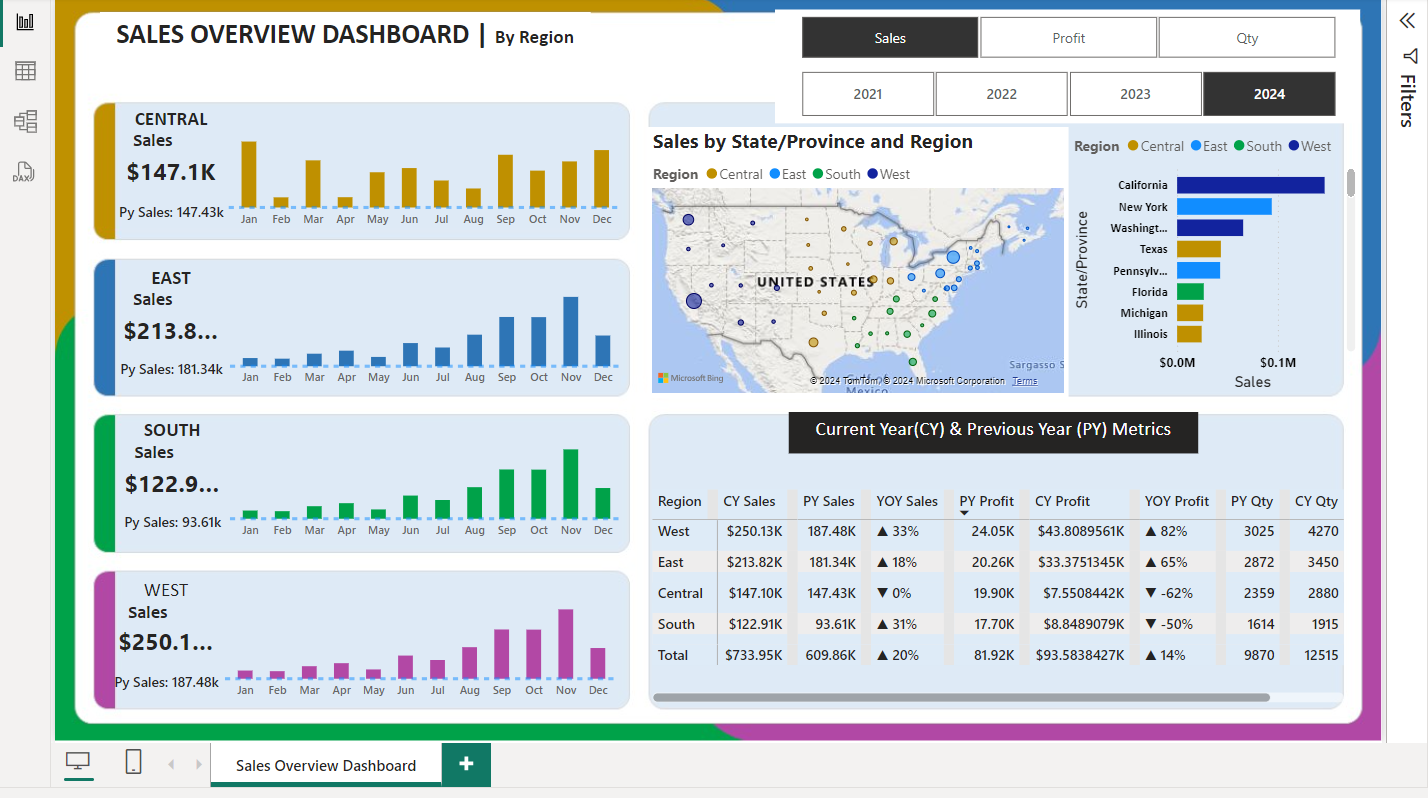

The page's visual inventory and layout, read from the dashboard file:
{"tool":"powerbi","page":{"name":"Sales Overview Dashboard","canvas":[1280,720],"ordinal":0},"visuals":[{"type":"slicer","fields":{"Values":["Select Metric.Select Metric"]},"box":[695,11.7,565,53.3],"z":0},{"type":"card","fields":{"Values":["Sales Data.Total Sales"]},"box":[60,140,103.3,60],"z":1000},{"type":"textbox","box":[60,101.7,103.3,38.3],"z":2000},{"type":"slicer","fields":{"Values":["Calender Table.Year"]},"box":[695,65,565,56.7],"z":3000},{"type":"card","fields":{"Values":["Sales Data.Dynamic Title"]},"box":[60,123.3,68.3,33.3],"z":4000},{"type":"card","fields":{"Values":["Sales Data.PY KPI Sales"]},"box":[43.3,186.7,138.3,45],"z":5000},{"type":"clusteredColumnChart","fields":{"Y":["Sales Data.Total Sales"],"Category":["Calender Table.Month"]},"box":[163.3,101.7,390,130],"z":6000},{"type":"textbox","box":[43.3,15,473.3,50],"z":7000},{"type":"card","fields":{"Values":["Sales Data.Total Sales"]},"box":[60.7,292.7,103.3,60],"z":8000},{"type":"textbox","box":[60.7,254.3,103.3,38.3],"z":9000},{"type":"card","fields":{"Values":["Sales Data.Dynamic Title"]},"box":[60.7,276,68.3,33.3],"z":10000},{"type":"card","fields":{"Values":["Sales Data.PY KPI Sales"]},"box":[44,339.3,138.3,45],"z":11000},{"type":"clusteredColumnChart","fields":{"Y":["Sales Data.Total Sales"],"Category":["Calender Table.Month"]},"box":[164,254.3,390,130],"z":12000},{"type":"card","fields":{"Values":["Sales Data.Total Sales"]},"box":[61.3,440,103.3,60],"z":13000},{"type":"textbox","box":[61.3,401.7,103.3,38.3],"z":14000},{"type":"card","fields":{"Values":["Sales Data.Dynamic Title"]},"box":[61.3,423.3,68.3,33.3],"z":15000},{"type":"card","fields":{"Values":["Sales Data.PY KPI Sales"]},"box":[44.7,486.7,138.3,45],"z":16000},{"type":"clusteredColumnChart","fields":{"Y":["Sales Data.Total Sales"],"Category":["Calender Table.Month"]},"box":[164.7,401.7,390,130],"z":17000},{"type":"card","fields":{"Values":["Sales Data.Total Sales"]},"box":[55.3,594,103.3,60],"z":18000},{"type":"textbox","box":[55.3,555.7,103.3,38.3],"z":19000},{"type":"card","fields":{"Values":["Sales Data.Dynamic Title"]},"box":[55.3,577.3,68.3,33.3],"z":20000},{"type":"card","fields":{"Values":["Sales Data.PY KPI Sales"]},"box":[38.7,640.7,138.3,45],"z":21000},{"type":"clusteredColumnChart","fields":{"Y":["Sales Data.Total Sales"],"Category":["Calender Table.Month"]},"box":[158.7,555.7,390,130],"z":22000},{"type":"map","fields":{"Size":["Sales Data.Total Sales"],"Category":["Sales Data.State/Province"],"Series":["Sales Data.Region"]},"box":[571.7,125,406.7,261.7],"z":23000},{"type":"barChart","fields":{"Y":["Sales Data.Total Sales"],"Category":["Sales Data.State/Province"],"Series":["Sales Data.Region"]},"box":[978.3,123.3,281.7,261.7],"z":24000},{"type":"pivotTable","fields":{"Rows":["Sales Data.Region"],"Values":["Sales Data.CY Sales","Sales Data.PY Sales","Sales Data.YOY Sales","Sales Data.PY Profit","Sales Data.CY Profit","Sales Data.YOY Profit","Sales Data.PY Qty","Sales Data.CY Qty","Sales Data.YOY Qty"]},"box":[571.7,470,676.7,215],"z":25000},{"type":"textbox","box":[708.3,400,395,40],"z":26000}]}

Visuals, with their boxes on the page's 1280x720 design canvas (x1, y1, x2, y2). These are canvas units, not pixel positions in the 1428x798 screenshot, which may show the page scaled, cropped or inside an application window:
slicer - Select Metric.Select Metric: pyautogui.locateOnScreen(695, 12, 1260, 65)
card - Sales Data.Total Sales: pyautogui.locateOnScreen(60, 140, 163, 200)
textbox: pyautogui.locateOnScreen(60, 102, 163, 140)
slicer - Calender Table.Year: pyautogui.locateOnScreen(695, 65, 1260, 122)
card - Sales Data.Dynamic Title: pyautogui.locateOnScreen(60, 123, 128, 157)
card - Sales Data.PY KPI Sales: pyautogui.locateOnScreen(43, 187, 182, 232)
clusteredColumnChart - Sales Data.Total Sales x Calender Table.Month: pyautogui.locateOnScreen(163, 102, 553, 232)
textbox: pyautogui.locateOnScreen(43, 15, 517, 65)
card - Sales Data.Total Sales: pyautogui.locateOnScreen(61, 293, 164, 353)
textbox: pyautogui.locateOnScreen(61, 254, 164, 293)
card - Sales Data.Dynamic Title: pyautogui.locateOnScreen(61, 276, 129, 309)
card - Sales Data.PY KPI Sales: pyautogui.locateOnScreen(44, 339, 182, 384)
clusteredColumnChart - Sales Data.Total Sales x Calender Table.Month: pyautogui.locateOnScreen(164, 254, 554, 384)
card - Sales Data.Total Sales: pyautogui.locateOnScreen(61, 440, 165, 500)
textbox: pyautogui.locateOnScreen(61, 402, 165, 440)
card - Sales Data.Dynamic Title: pyautogui.locateOnScreen(61, 423, 130, 457)
card - Sales Data.PY KPI Sales: pyautogui.locateOnScreen(45, 487, 183, 532)
clusteredColumnChart - Sales Data.Total Sales x Calender Table.Month: pyautogui.locateOnScreen(165, 402, 555, 532)
card - Sales Data.Total Sales: pyautogui.locateOnScreen(55, 594, 159, 654)
textbox: pyautogui.locateOnScreen(55, 556, 159, 594)
card - Sales Data.Dynamic Title: pyautogui.locateOnScreen(55, 577, 124, 611)
card - Sales Data.PY KPI Sales: pyautogui.locateOnScreen(39, 641, 177, 686)
clusteredColumnChart - Sales Data.Total Sales x Calender Table.Month: pyautogui.locateOnScreen(159, 556, 549, 686)
map - Sales Data.Total Sales x Sales Data.State/Province: pyautogui.locateOnScreen(572, 125, 978, 387)
barChart - Sales Data.Total Sales x Sales Data.State/Province: pyautogui.locateOnScreen(978, 123, 1260, 385)
pivotTable - Sales Data.Region x Sales Data.CY Sales: pyautogui.locateOnScreen(572, 470, 1248, 685)
textbox: pyautogui.locateOnScreen(708, 400, 1103, 440)
